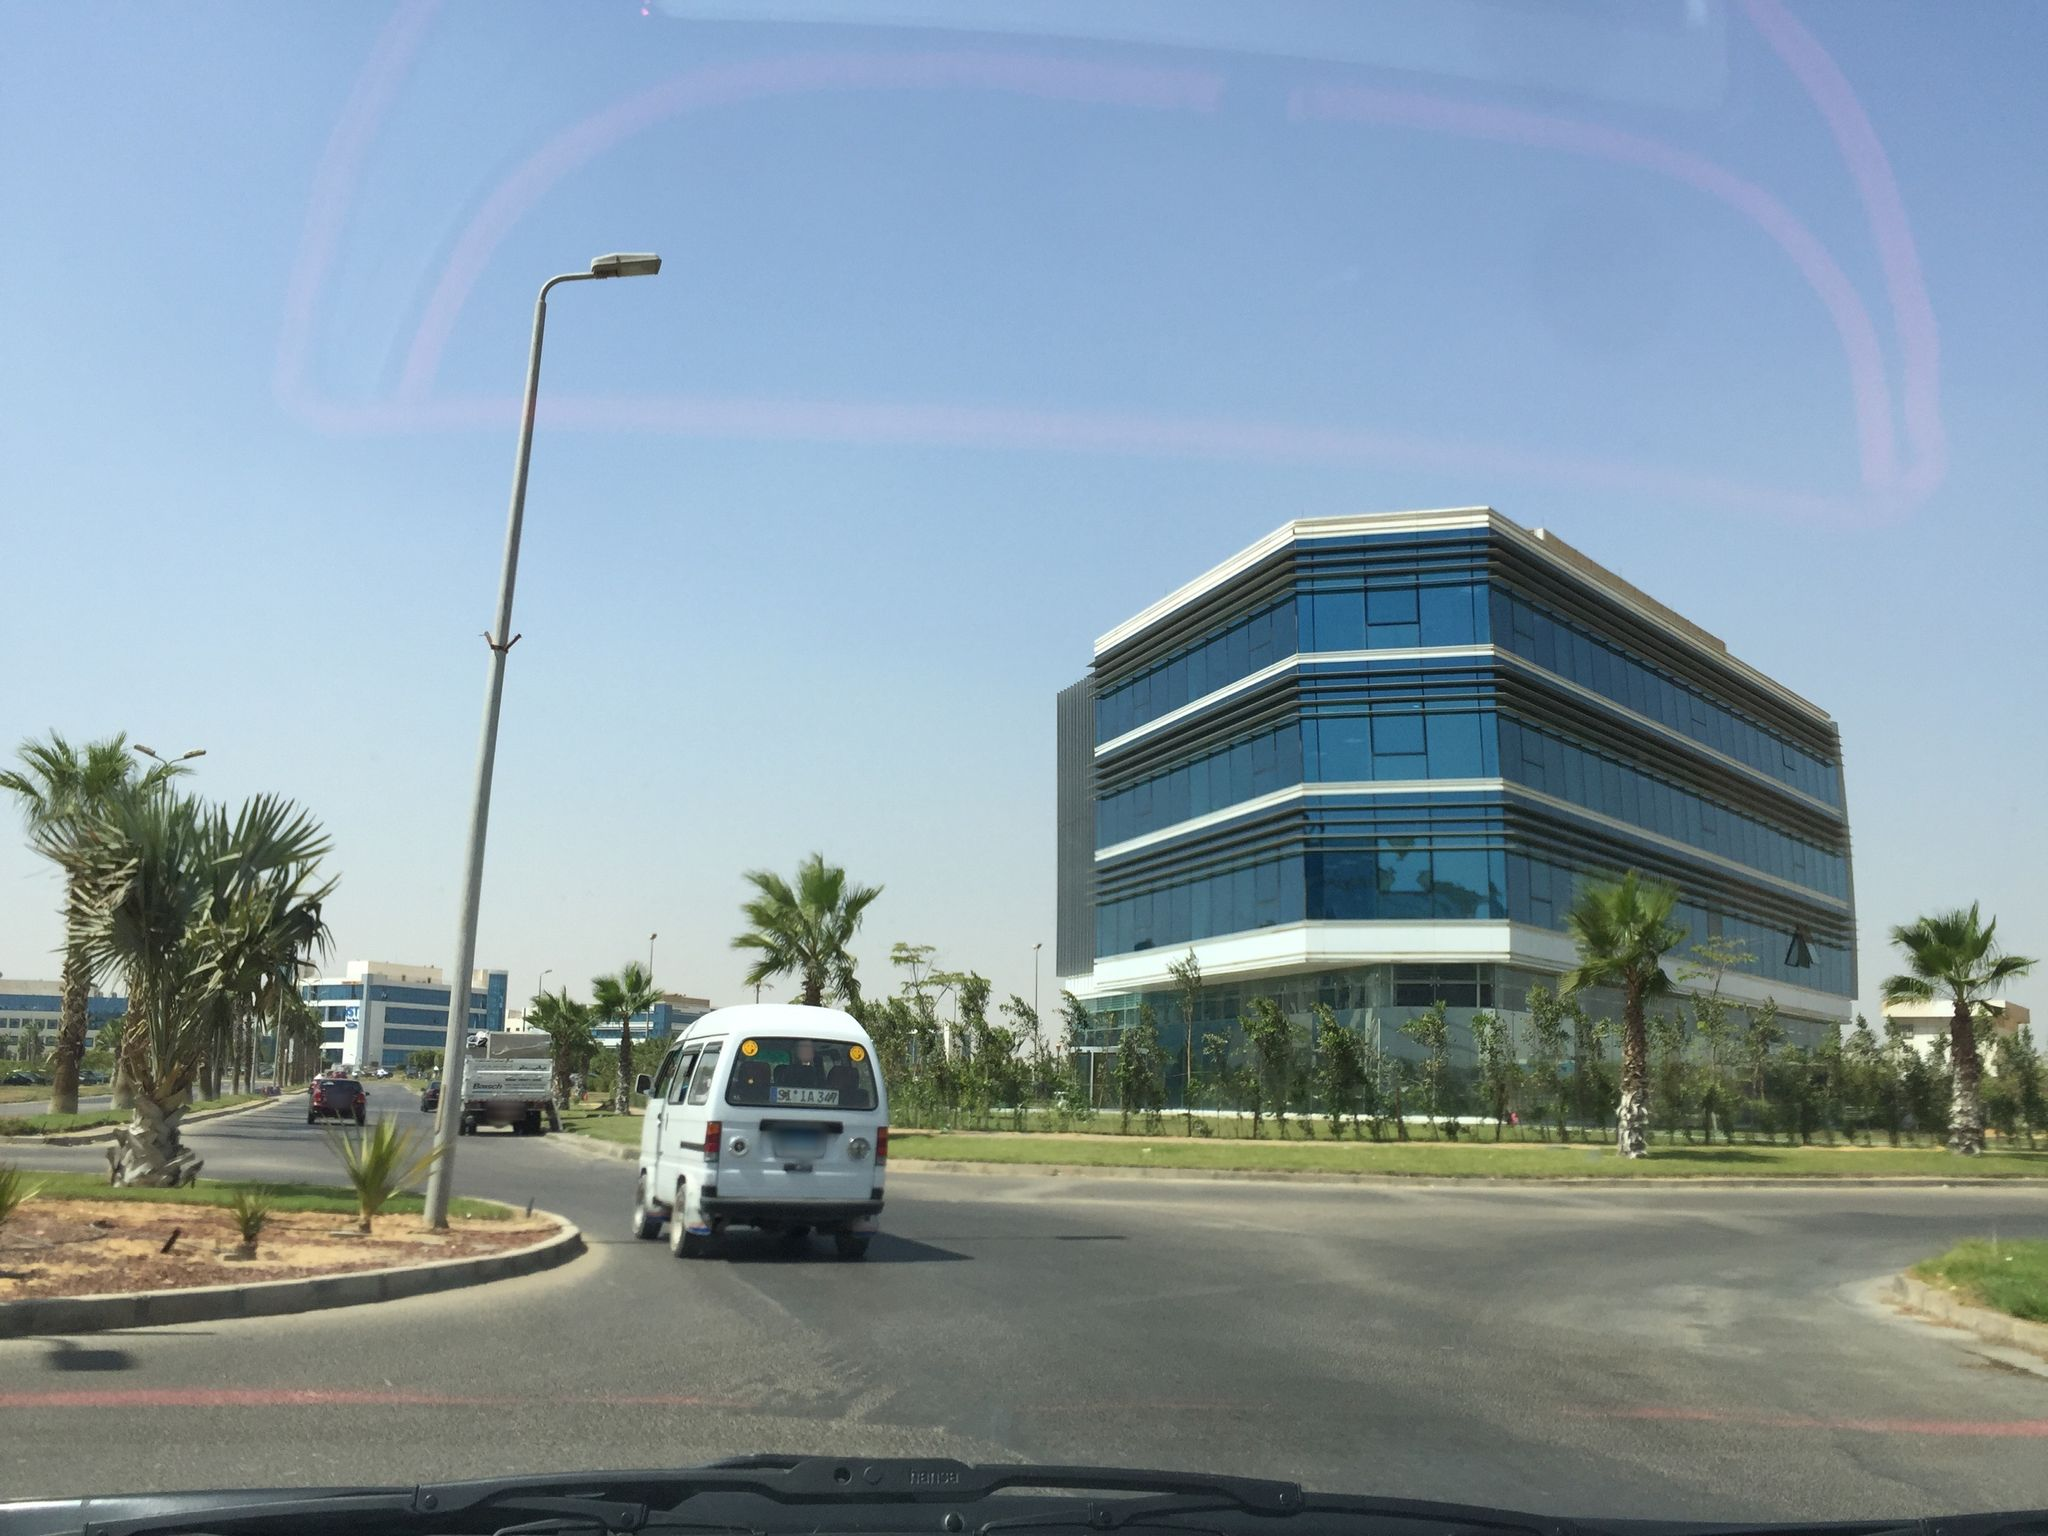car: (631, 1000, 889, 1257), (306, 1078, 369, 1126), (418, 1079, 440, 1112)
truck: (458, 1029, 556, 1134)
